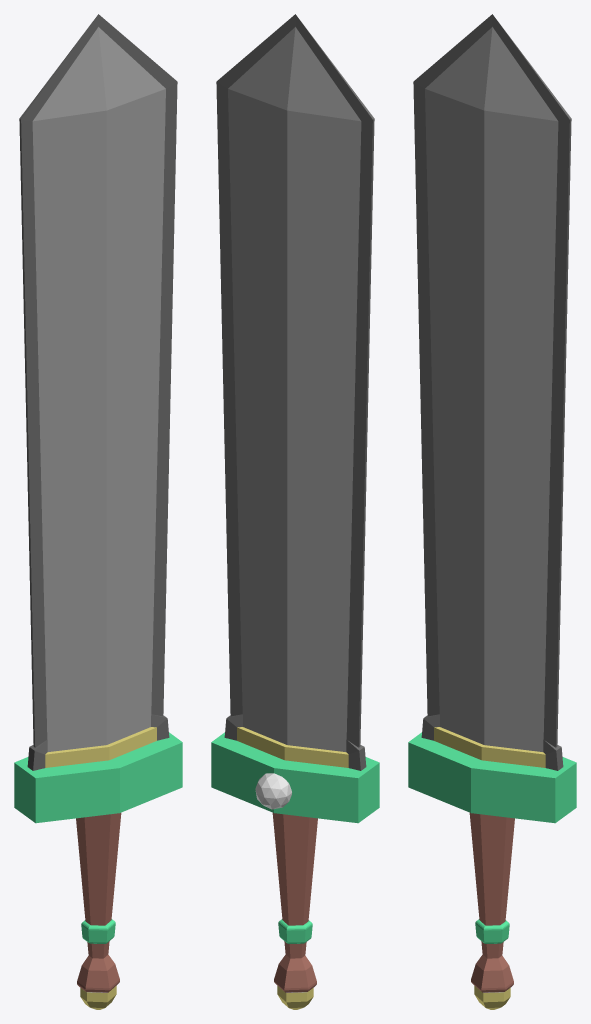
Rendered from sword.fbx.
3 renders of one model, left to right at view 1: azimuth 30°, elevation 25°; view 2: azimuth 150°, elevation 25°; view 3: azimuth 330°, elevation 25°, orthographic.
Parts seen in each view (by area): view 1: Cylinder; view 2: Cylinder; view 3: Cylinder.
Boxes of the visible parts, bbox=[...] form: Cylinder: bbox=[14, 14, 182, 1009]; Cylinder: bbox=[211, 14, 379, 1009]; Cylinder: bbox=[408, 14, 576, 1009].
Bounding box in the file's own units: 422 × 2566 × 245.
